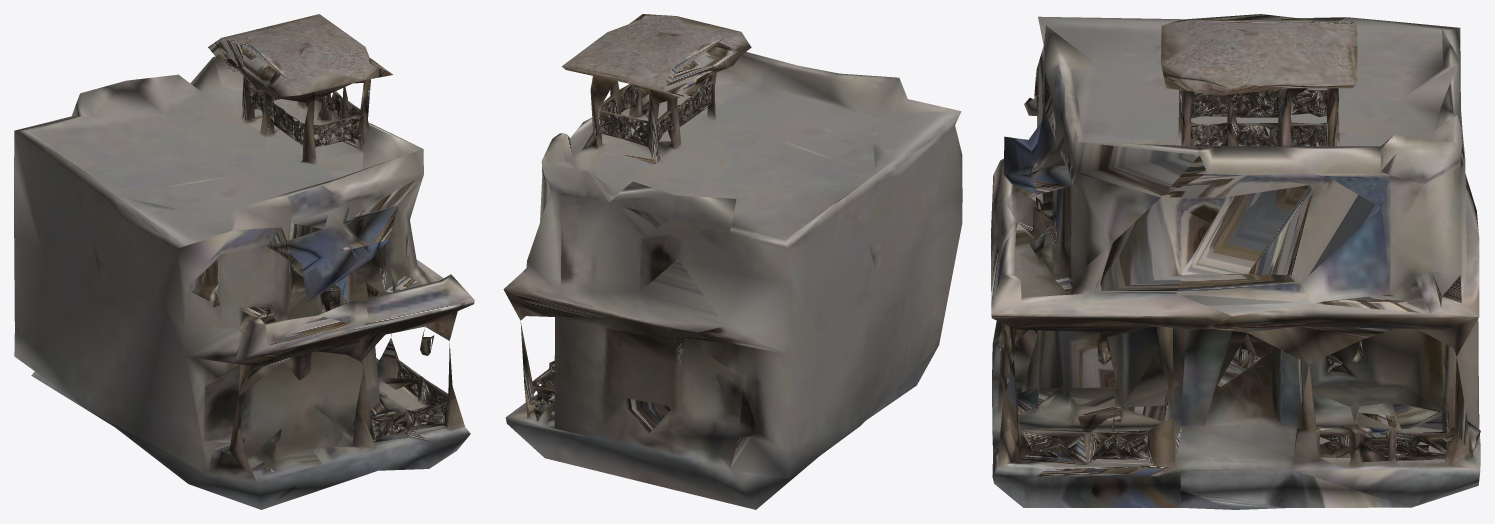
The model's file is tavern_0.glb.
The picture shows the model from 3 angles, left to right: view 1: azimuth 30°, elevation 25°; view 2: azimuth 150°, elevation 25°; view 3: azimuth 270°, elevation 25°; orthographic projection. The views are drawn at different scales.
Visible parts, largest first — view 1: tripo_node_02d9c7b2-d514-4958-b198-2c4b8aa8655b; view 2: tripo_node_02d9c7b2-d514-4958-b198-2c4b8aa8655b; view 3: tripo_node_02d9c7b2-d514-4958-b198-2c4b8aa8655b.
Part boxes in pixels (x1,y1,x2,y2): tripo_node_02d9c7b2-d514-4958-b198-2c4b8aa8655b: (14, 14, 474, 509); tripo_node_02d9c7b2-d514-4958-b198-2c4b8aa8655b: (503, 14, 962, 509); tripo_node_02d9c7b2-d514-4958-b198-2c4b8aa8655b: (991, 14, 1480, 509).
Size of the model in its own units: 0.7762 by 0.9406 by 0.9496.
Materials: 1 (1 with a texture image).
